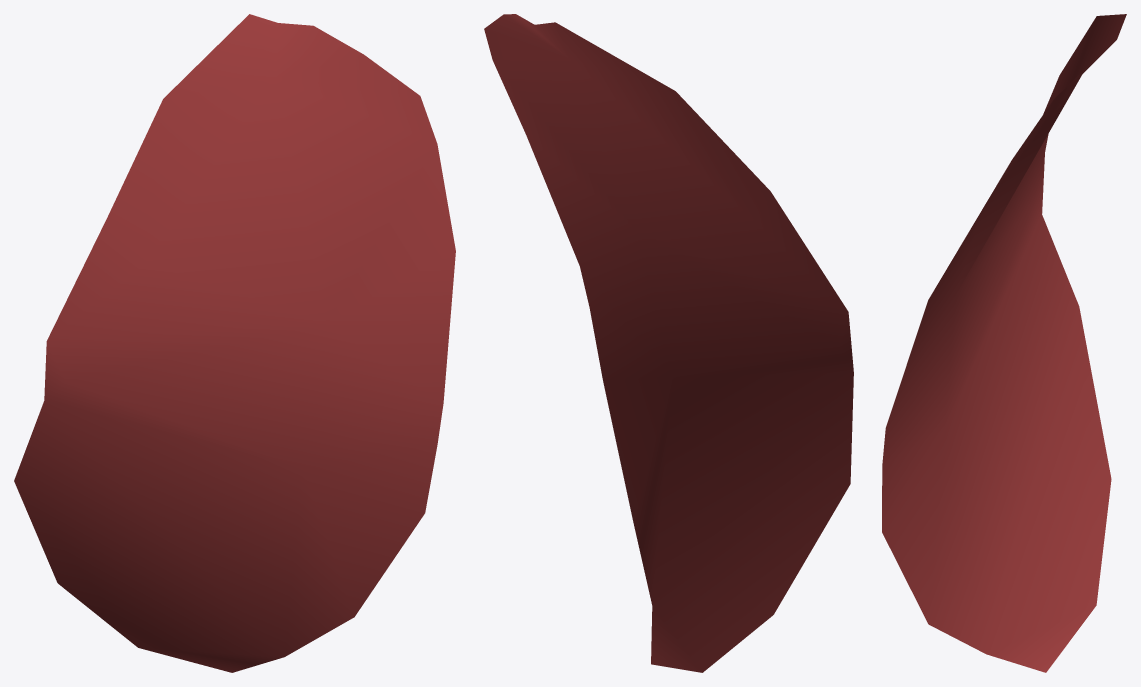
Rendered from subscapularis-muscle-el.glb.
The picture shows the model from 3 angles, left to right: view 1: azimuth 30°, elevation 25°; view 2: azimuth 150°, elevation 25°; view 3: azimuth 270°, elevation 25°; orthographic projection. The views are drawn at different scales.
Parts seen in each view (by area): view 1: Subscapularis muscle.el; view 2: Subscapularis muscle.el; view 3: Subscapularis muscle.el.
Part boxes in pixels (left/top/right/bottom): Subscapularis muscle.el: left=14, top=14, right=455, bottom=672; Subscapularis muscle.el: left=484, top=14, right=853, bottom=672; Subscapularis muscle.el: left=882, top=14, right=1126, bottom=672.
Bounding box in the file's own units: 0.011 × 0.0171 × 0.00553.
